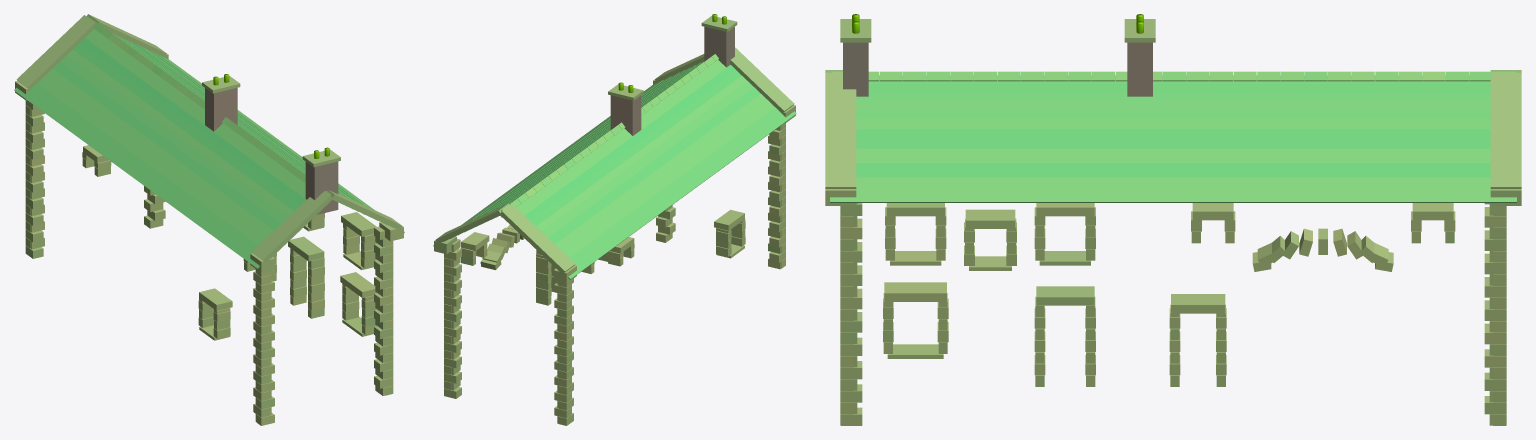
Rendered from SM_Bld_038_Stone.glb.
The picture shows the model from 3 angles, left to right: view 1: azimuth 30°, elevation 25°; view 2: azimuth 150°, elevation 25°; view 3: azimuth 270°, elevation 25°; orthographic projection. The views are drawn at different scales.
Parts seen in each view (by area): view 1: SM_Bld_038_Stone; view 2: SM_Bld_038_Stone; view 3: SM_Bld_038_Stone.
Part boxes in pixels (x1=…): SM_Bld_038_Stone: x1=14, y1=14, x2=404, y2=425; SM_Bld_038_Stone: x1=433, y1=14, x2=796, y2=425; SM_Bld_038_Stone: x1=825, y1=14, x2=1521, y2=425.
Size of the model in its own units: 5.61 by 9.28 by 16.22.
